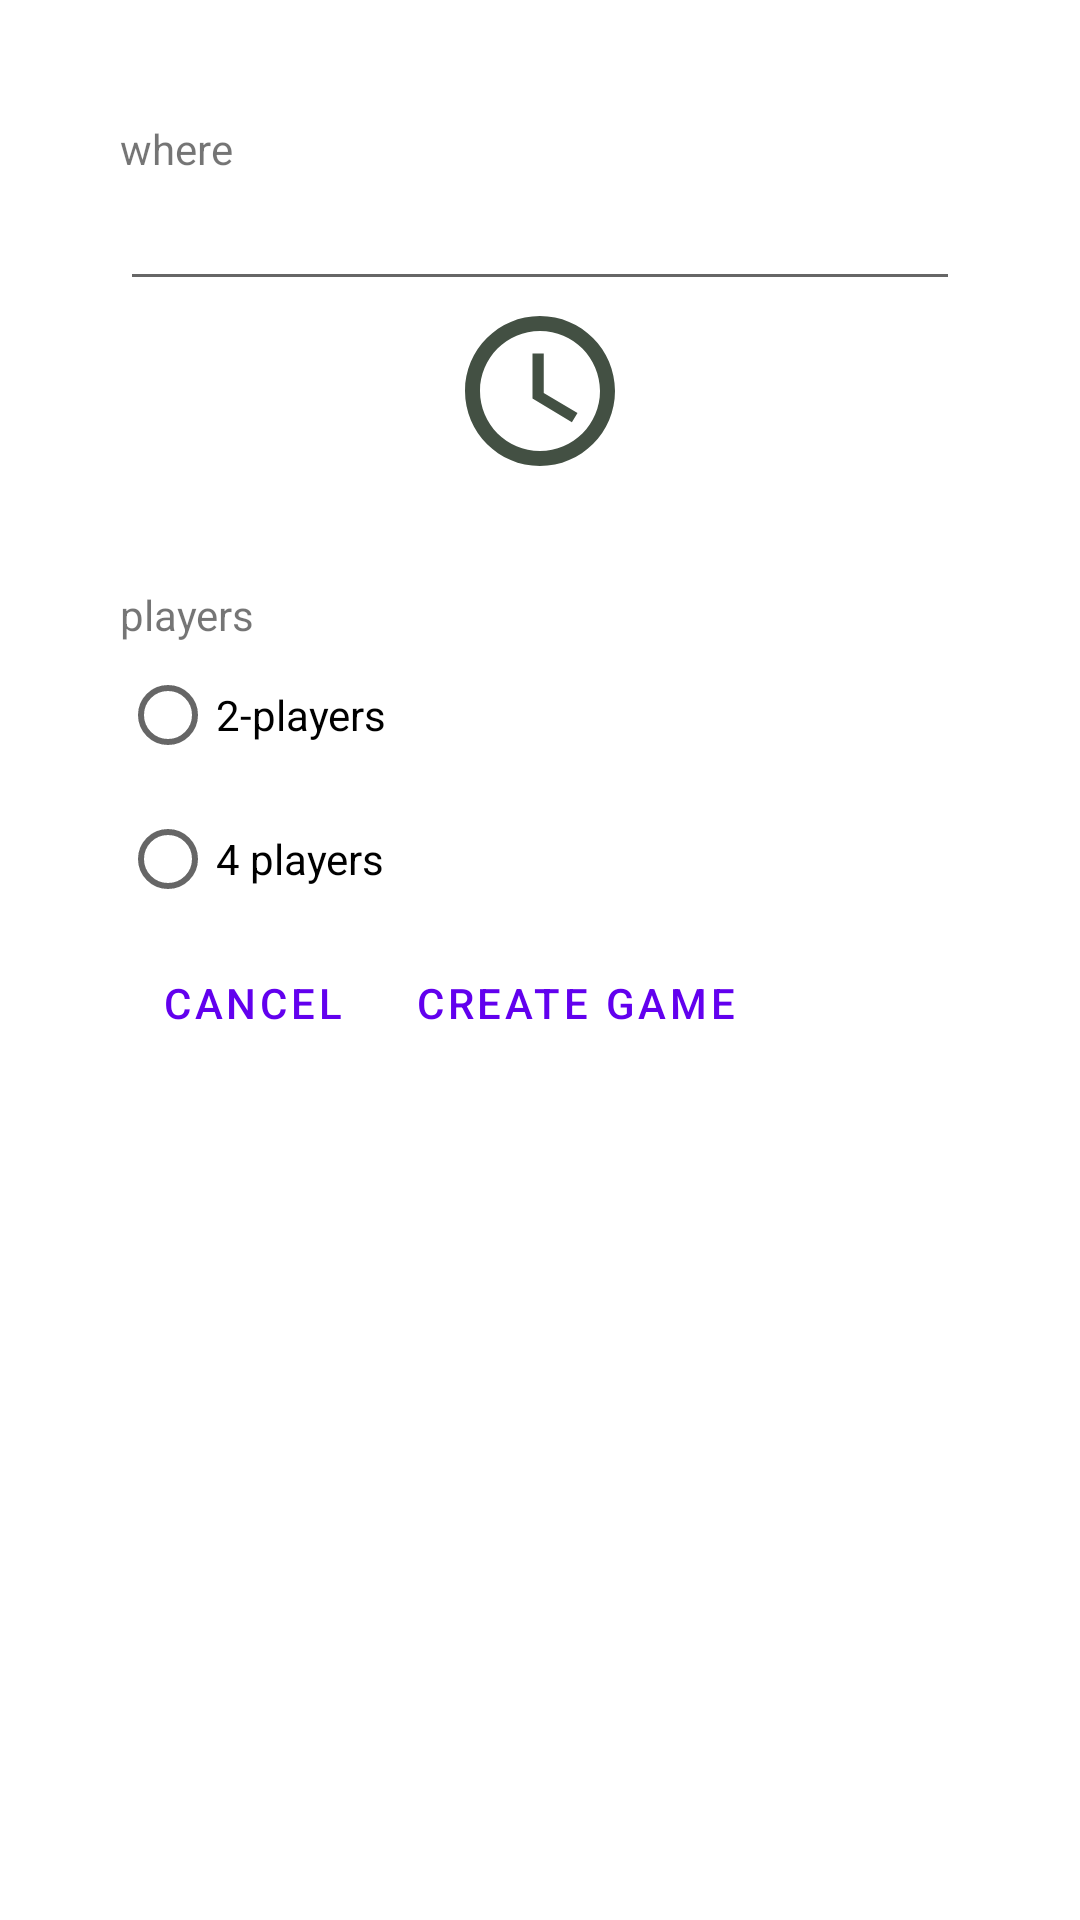

Where icons sit on this 1080 x 1920 app screen, as (x1, y1, x2, y2):
time: (465, 316, 615, 466)
